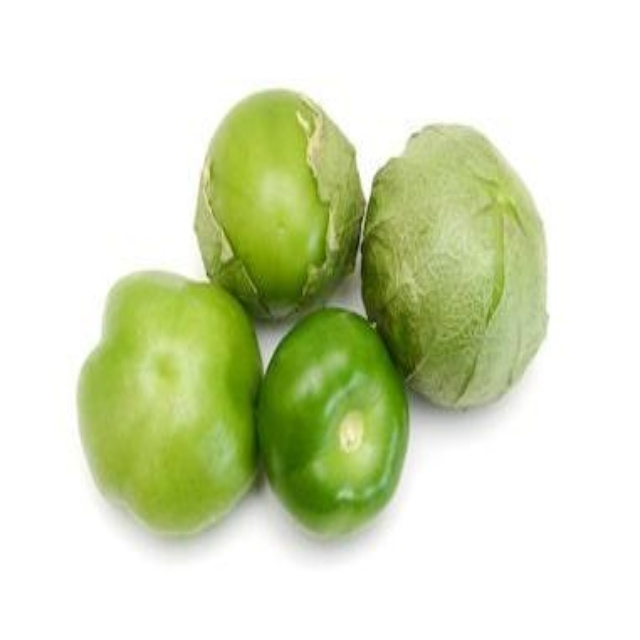tomato: (366, 128, 560, 415), (72, 260, 275, 529), (192, 84, 383, 322), (253, 302, 412, 561)
